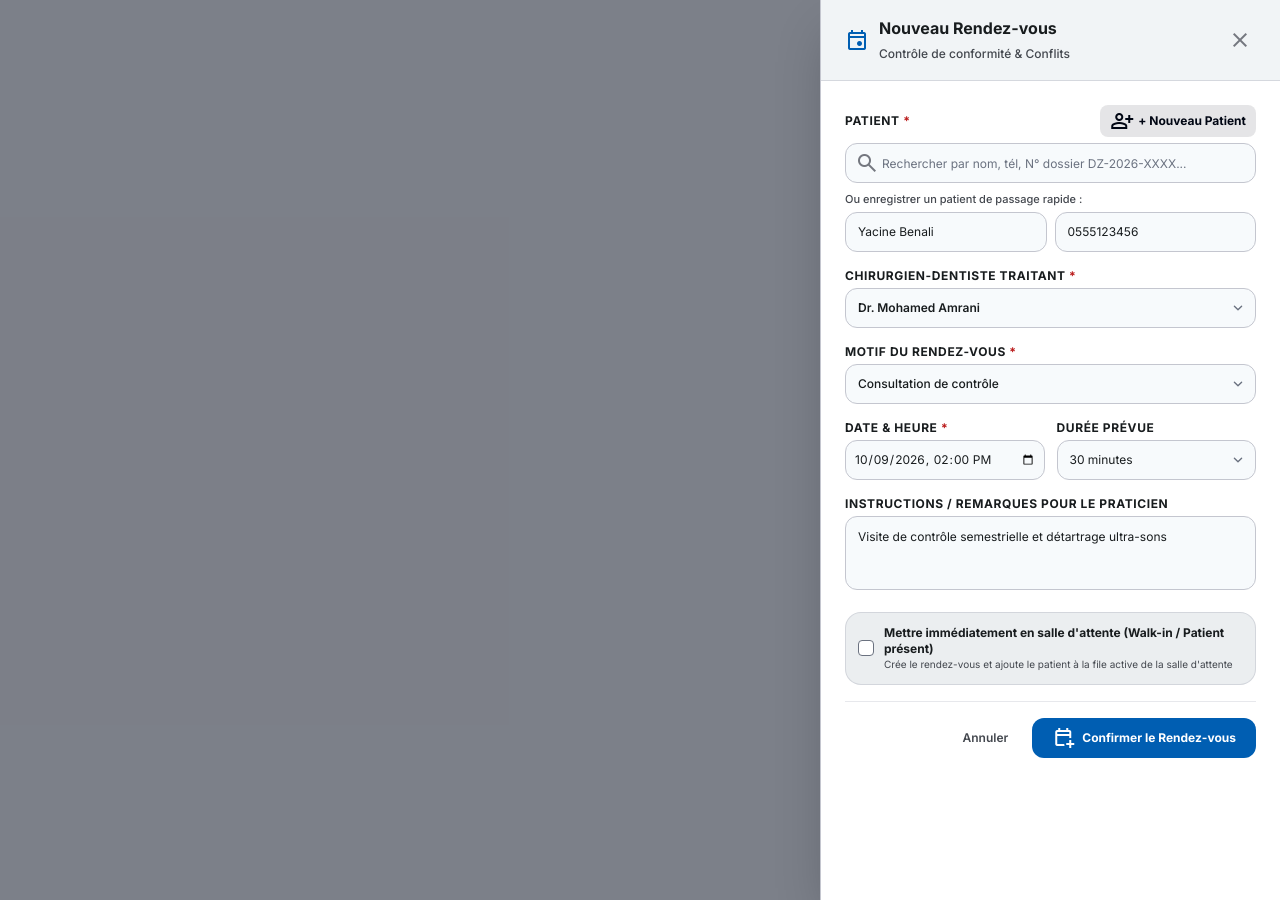
Scenario: ConflictAlertModal & Conflict Detection UI Integration Tests › 3. End-to-End Conflict Detection Workflow in NewAppointmentDrawer › opens NewPatientModal when clicking "+ Nouveau Patient" and auto-selects newly created patient
The width and height of the screenshot is (1280, 900).
// Click button
Click the button "+ Nouveau Patient" at (1178, 121), box top-left (1100, 105), bottom-right (1256, 137)
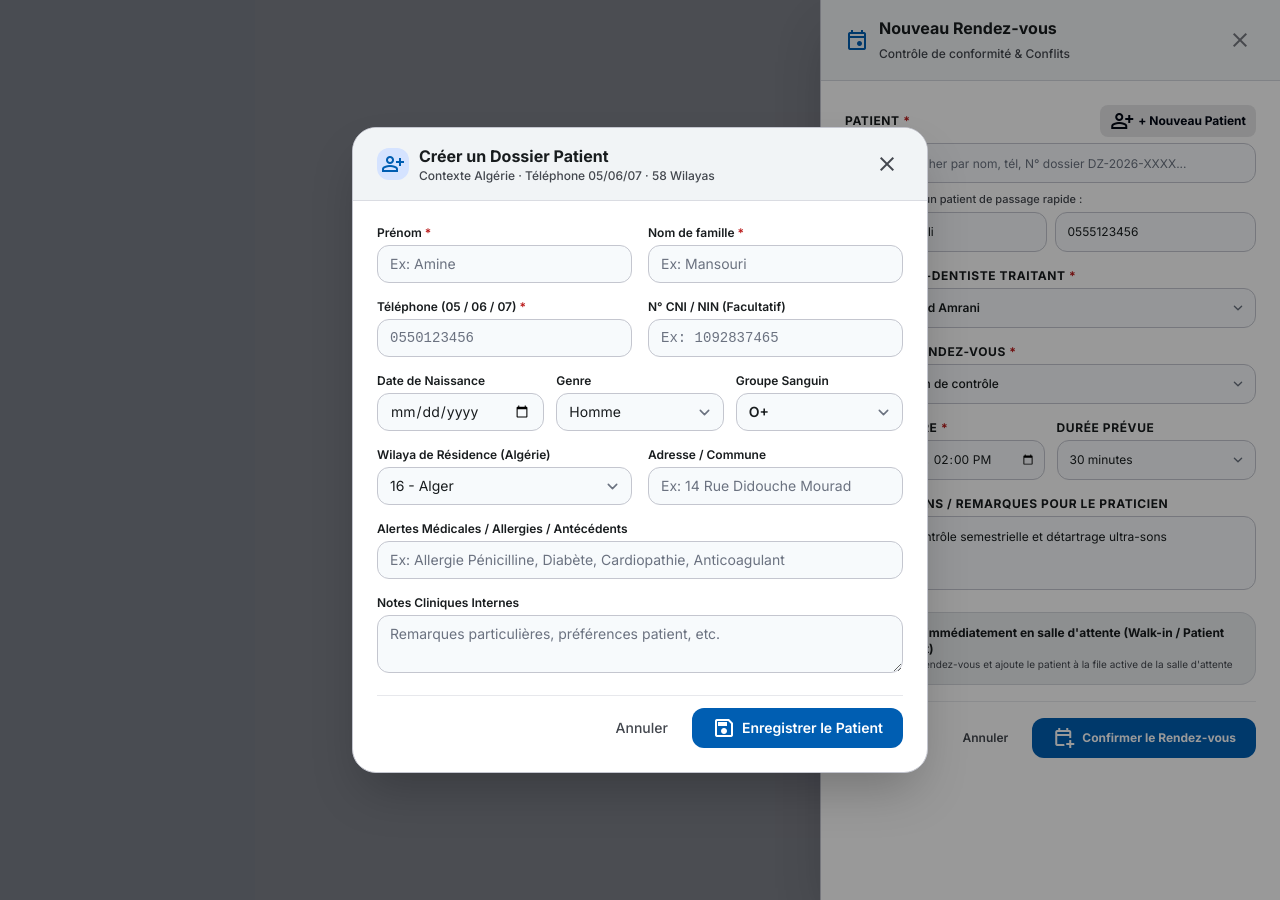
Result: the heading "Créer un Dossier Patient" is shown at top-left (419, 146), bottom-right (608, 166)
// Fill in First Name and Last Name and Phone
Type "Karim" into the field with placeholder "Ex: Amine" at (504, 264), box top-left (377, 245), bottom-right (632, 283)
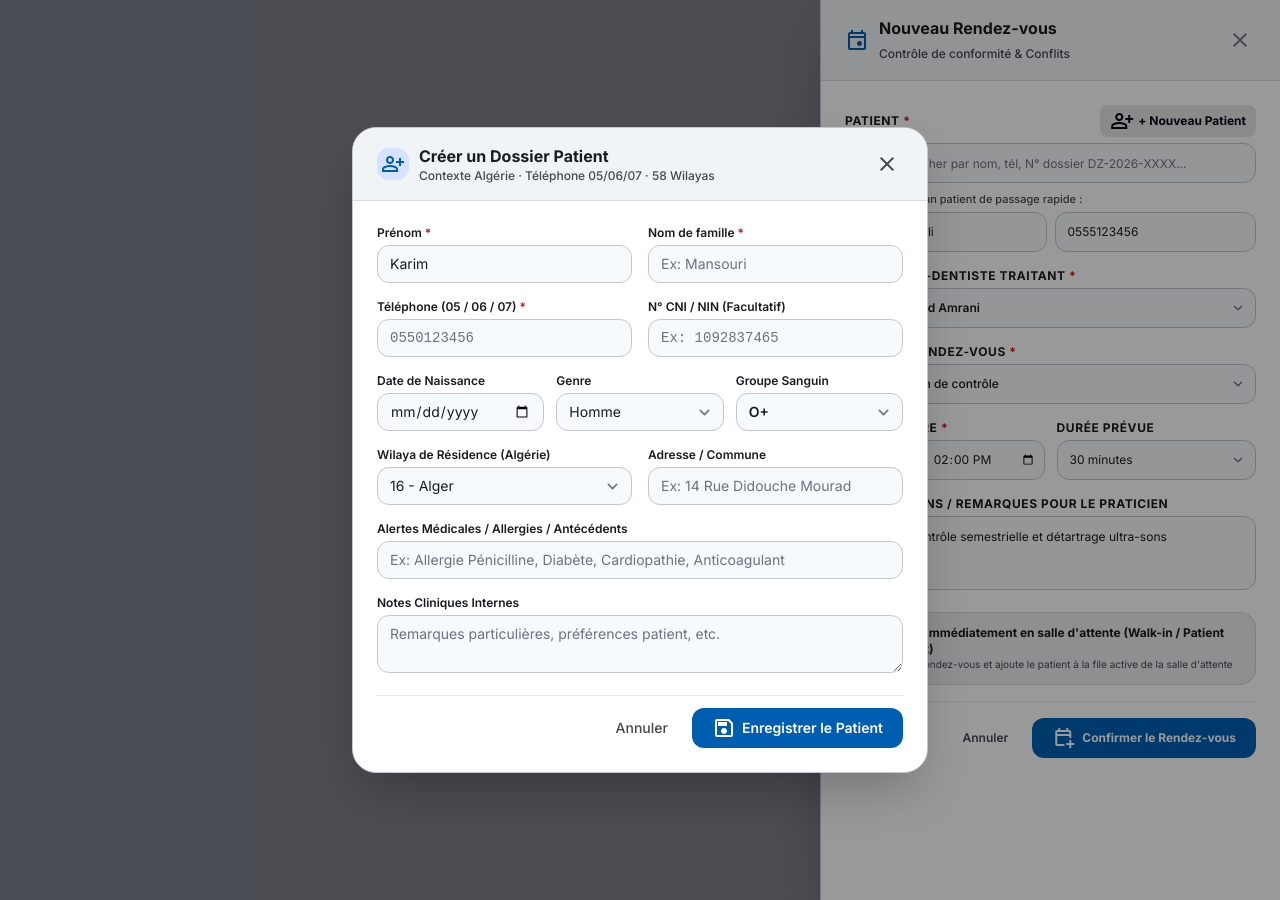
Type "Saadi" into the field with placeholder "Ex: Mansouri" at (776, 264), box top-left (648, 245), bottom-right (903, 283)
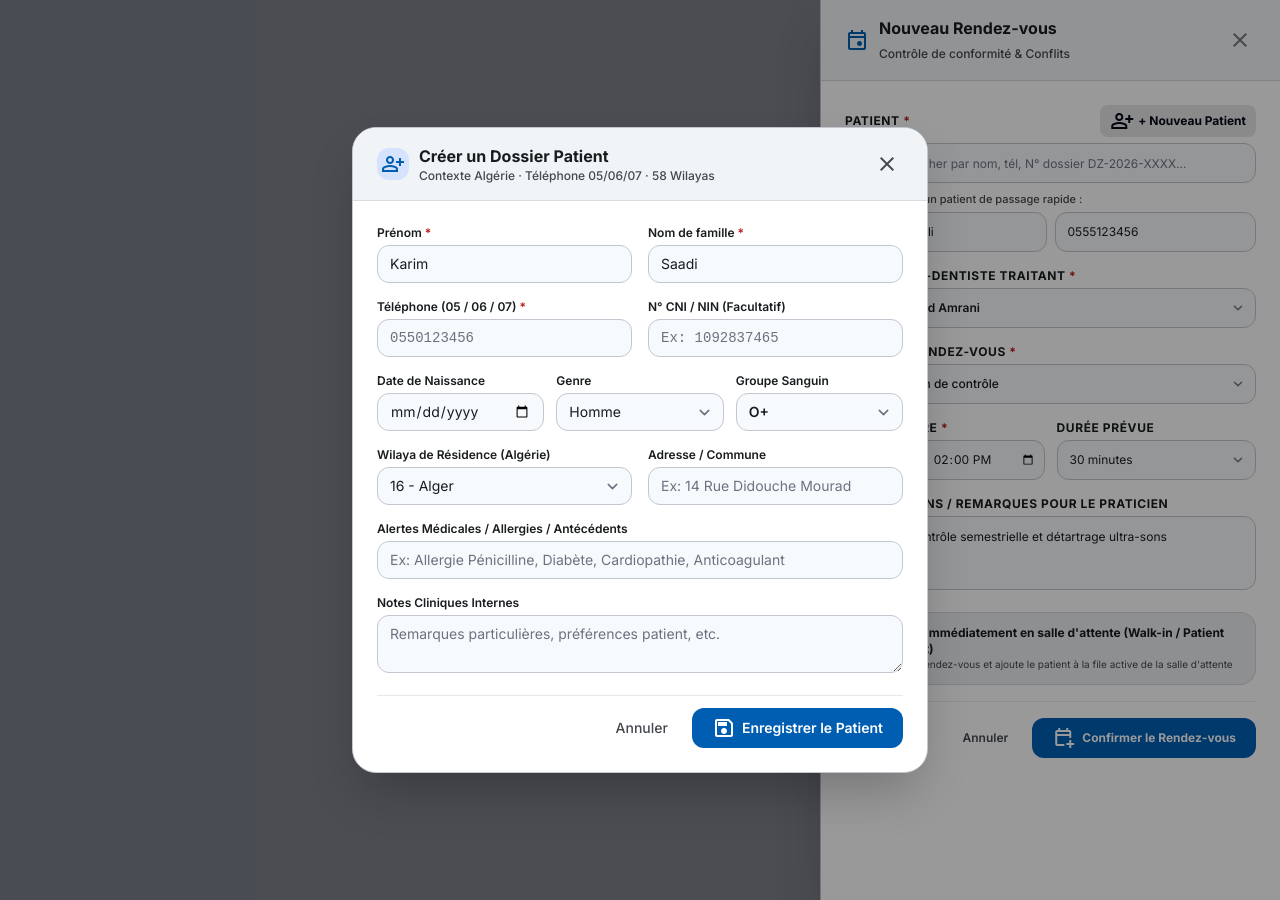
Type "0770998877" into the field with placeholder "0550123456" at (504, 338), box top-left (377, 319), bottom-right (632, 357)
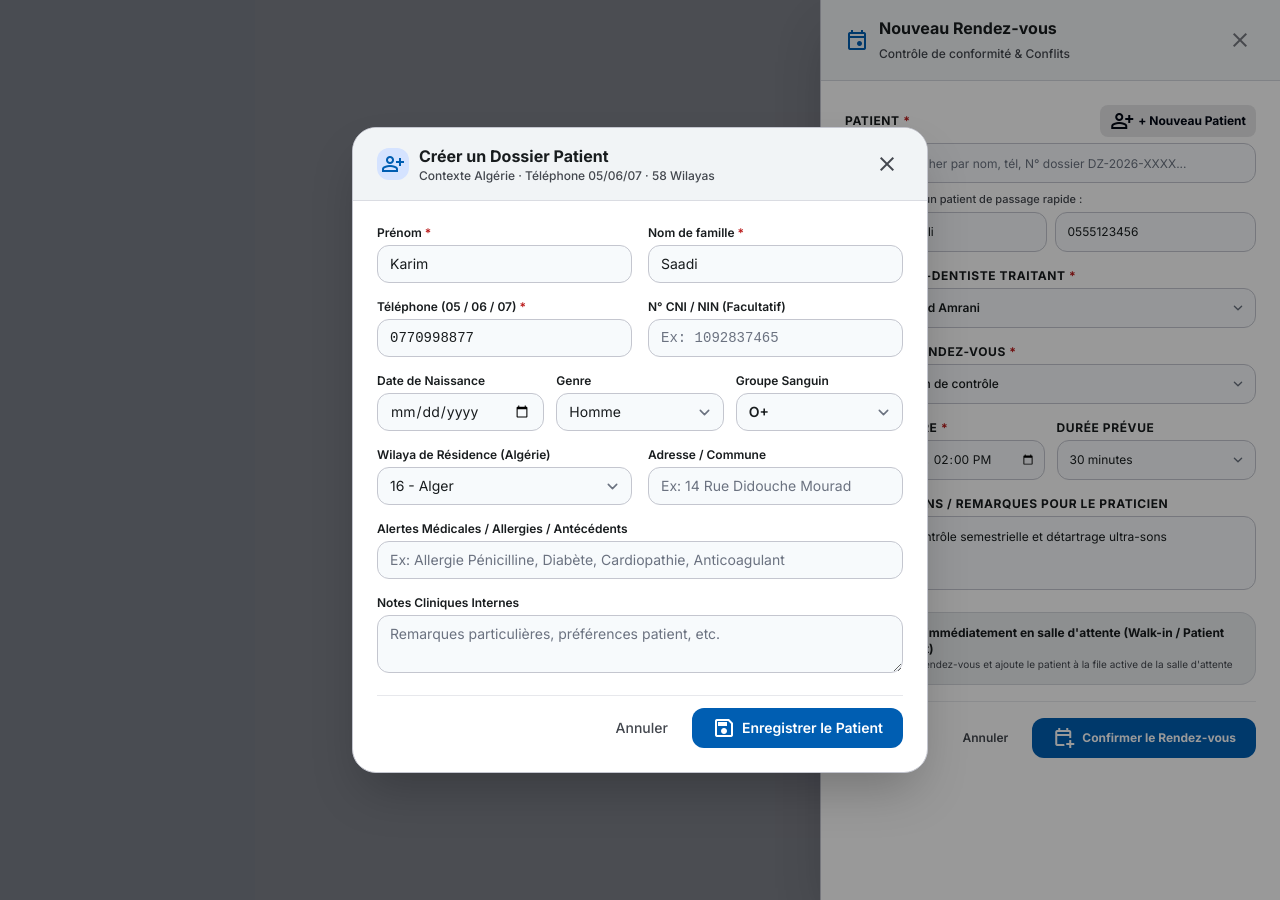
// Submit creation form
Click the button "Enregistrer le Patient" at (797, 728), box top-left (692, 708), bottom-right (903, 748)
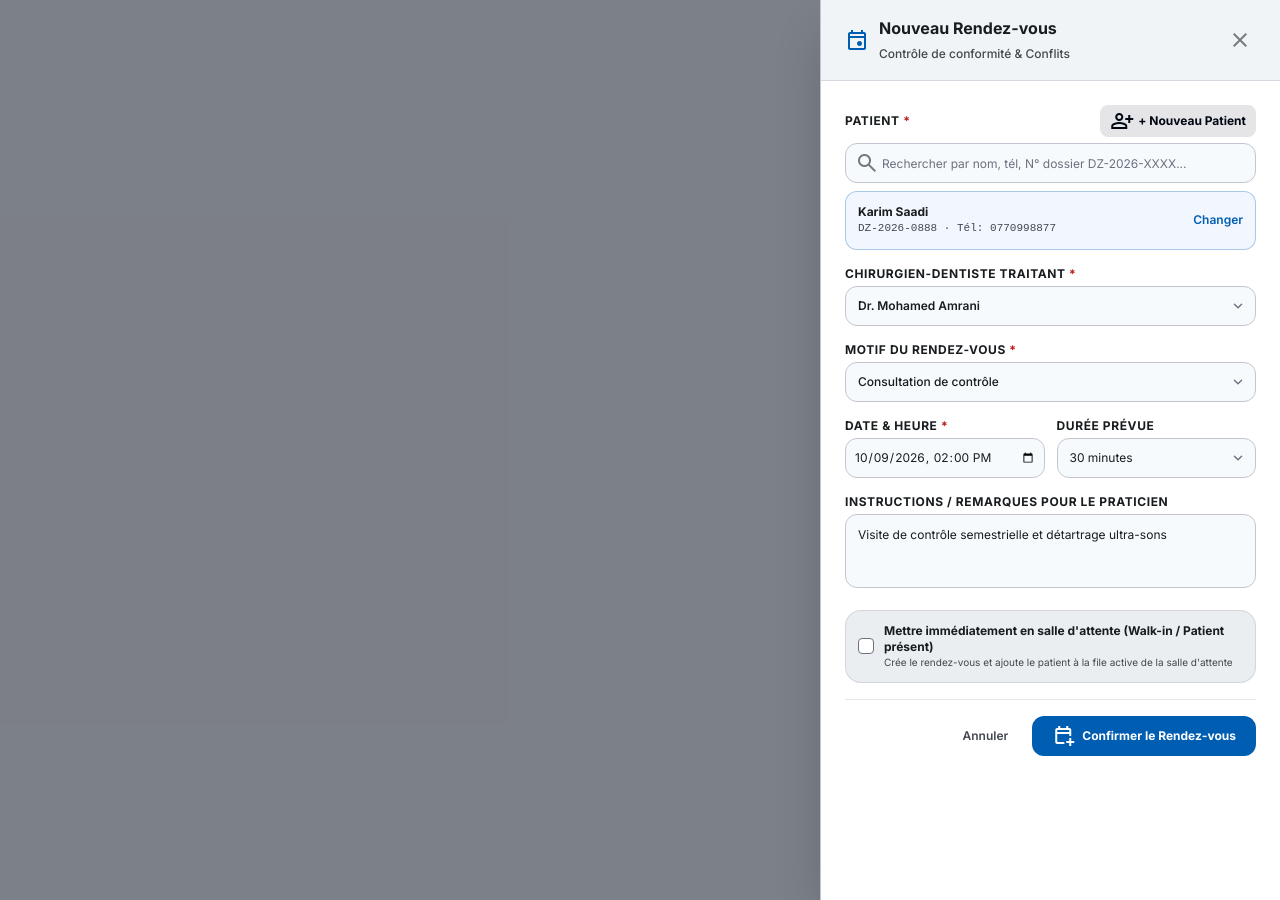
Result: the heading "Créer un Dossier Patient" is gone
Result: the text "Karim Saadi" is shown at top-left (858, 204), bottom-right (928, 219)
Result: the text "DZ-2026-0888 · Tél: 0770998877" is shown at top-left (858, 220), bottom-right (1056, 236)
